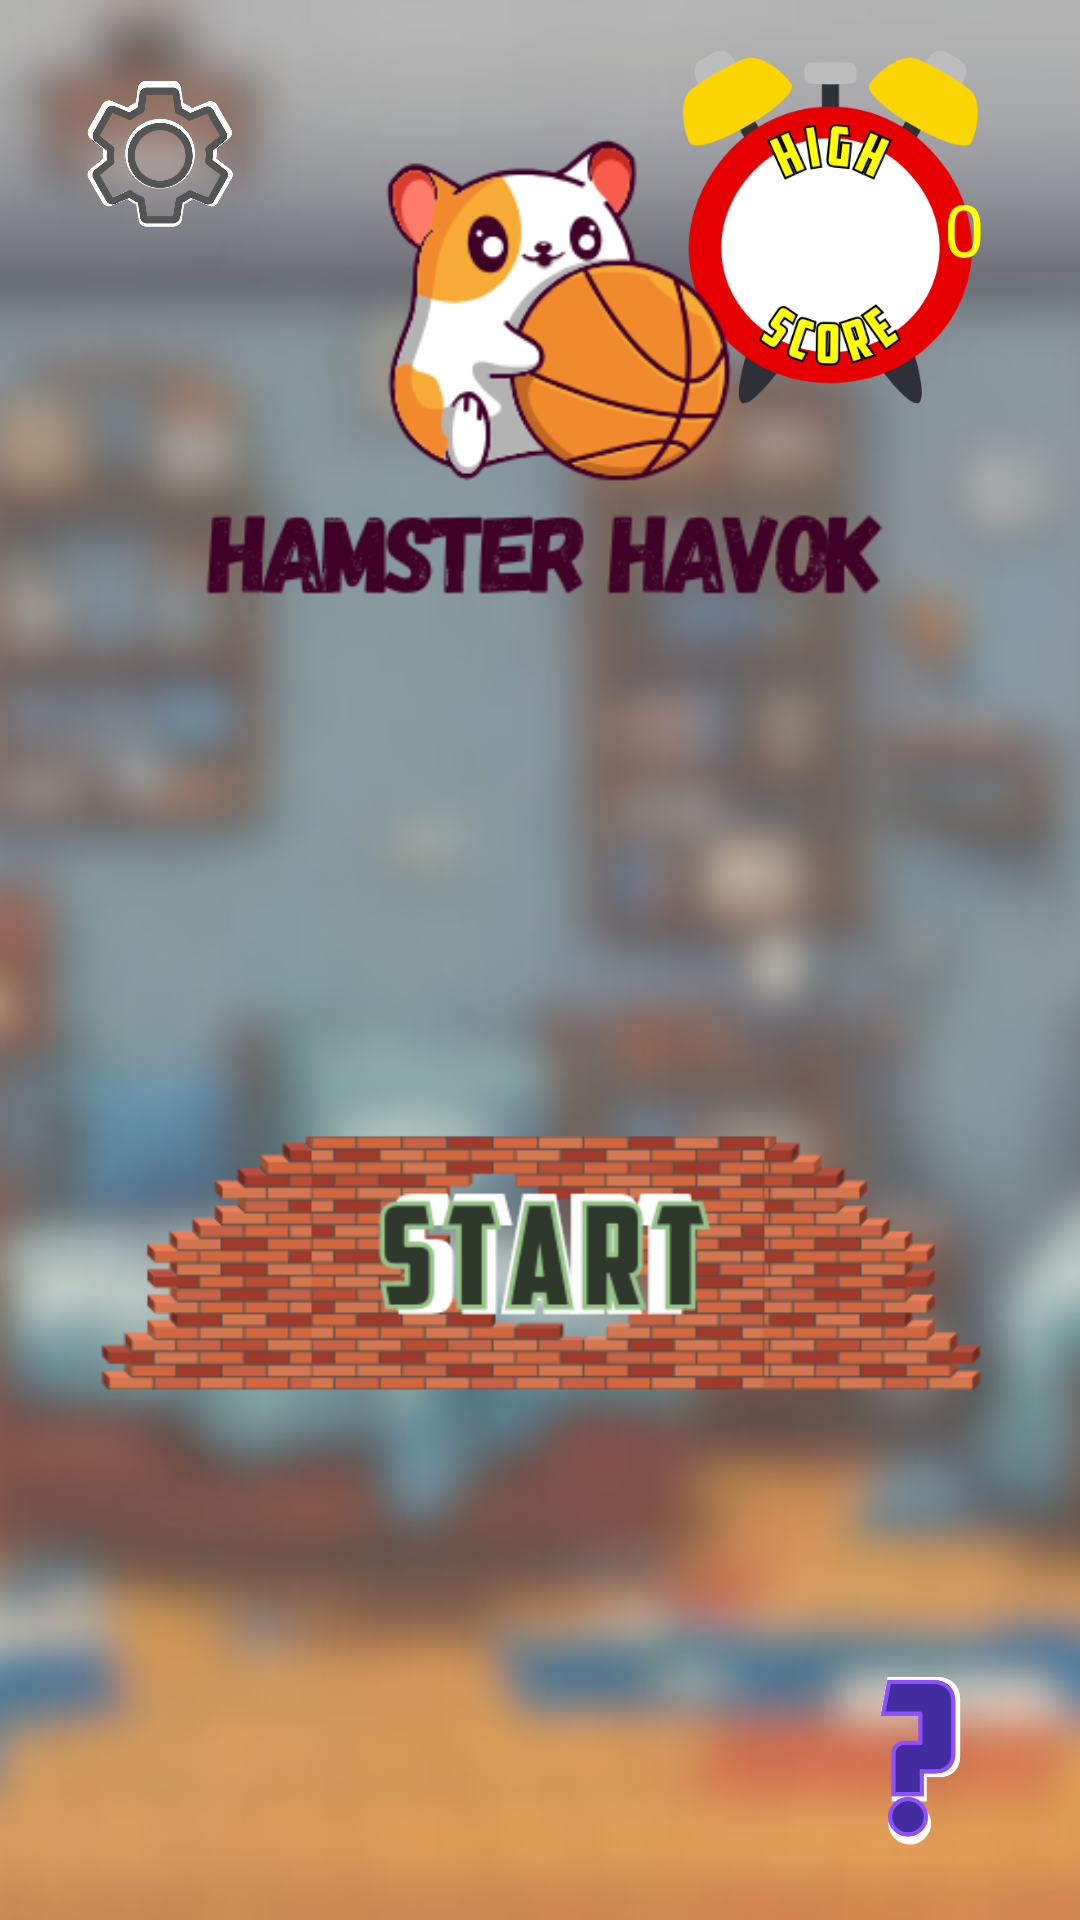

Where to tap for icons on this 1080*1920 app screen, as (x,y):
Settings for the game: (160,160)
